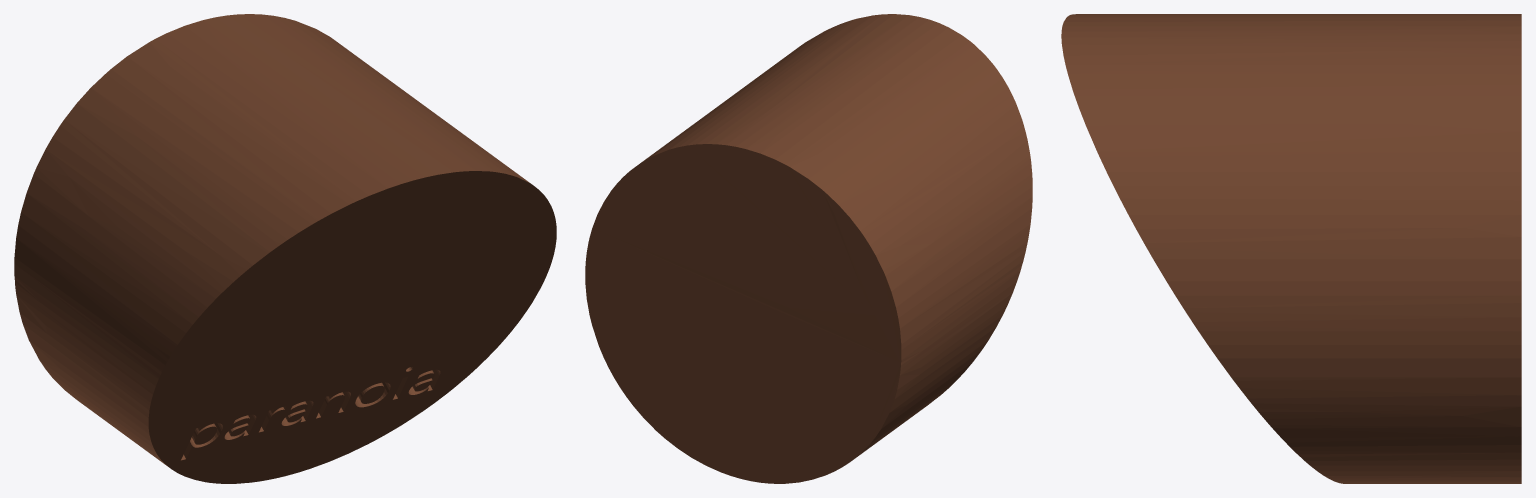
Rendered from paranoia.obj.
The picture shows the model from 3 angles, left to right: view 1: azimuth 30°, elevation 25°; view 2: azimuth 150°, elevation 25°; view 3: azimuth 270°, elevation 25°; orthographic projection. The views are drawn at different scales.
Parts seen in each view (by area): view 1: Object.1; view 2: Object.1; view 3: Object.1.
Boxes of the visible parts, x1,y1,x2,y2 form: Object.1: [14, 14, 556, 483]; Object.1: [585, 14, 1032, 483]; Object.1: [1061, 14, 1521, 483].
Bounding box in the file's own units: 2 × 2 × 1.96.
